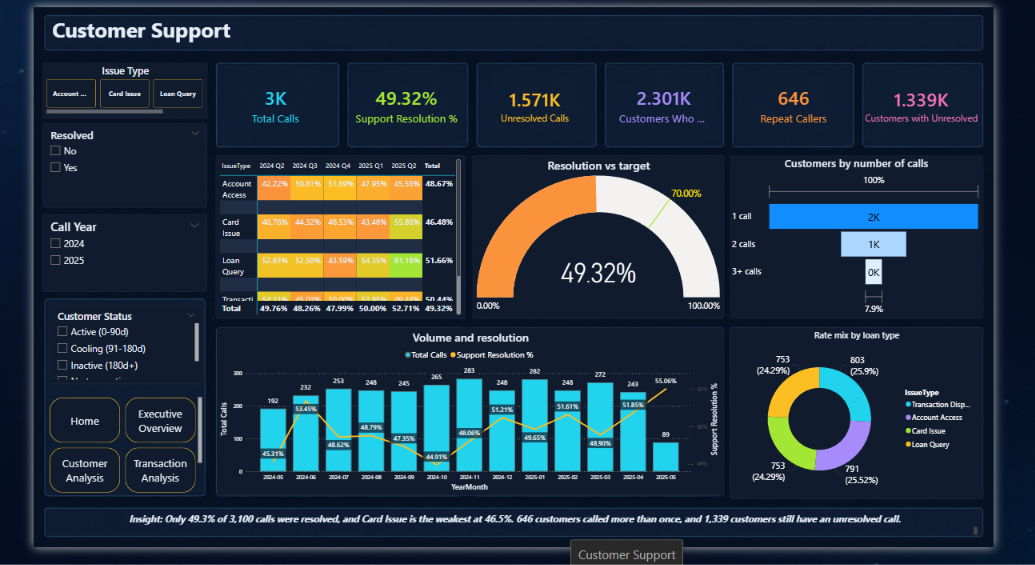

Layout of this report page (visuals, bound fields, positions):
{"tool":"powerbi","page":{"name":"Customer Support","canvas":[1920,1080],"ordinal":5},"visuals":[{"type":"cardVisual","fields":{"Data":["dim_customers.Total Calls"]},"box":[336.8,108.6,296.3,174.8],"z":0},{"type":"cardVisual","fields":{"Data":["dim_customers.Unresolved Calls"]},"box":[862.2,108.5,281.7,175.1],"z":1000},{"type":"cardVisual","fields":{"Data":["dim_customers.Repeat Callers"]},"box":[1395.1,108.6,248.5,174.8],"z":2000},{"type":"cardVisual","fields":{"Data":["dim_customers.Customers Who Called"]},"box":[1143,108.6,237.4,174.8],"z":3000},{"type":"cardVisual","fields":{"Data":["_Measures.Support Resolution %"]},"box":[589,108.6,316.6,174.8],"z":4000},{"type":"cardVisual","fields":{"Data":["dim_customers.Customers with Unresolved"]},"box":[1629.2,108.5,291.2,175.1],"z":5000},{"type":"pivotTable","title":"Loan portfolio by type","fields":{"Rows":["fact_support_calls.IssueType"],"Columns":["dim_date.Year Quarter"],"Values":["_Measures.Support Resolution %"]},"box":[364.3,295.7,498.6,327.1],"z":6000},{"type":"gauge","title":"Resolution vs target","fields":{"Y":["_Measures.Support Resolution %"],"TargetValue":["_Measures.Resolution Target"]},"box":[877.1,295.7,502.9,327.1],"z":7000},{"type":"funnel","title":"Customers by number of calls","fields":{"Category":["dim_customers.Call Band"],"Y":["_Measures.Total Customers"]},"box":[1392.9,295.7,507.1,327.1],"z":8000},{"type":"donutChart","title":"Rate mix by loan type","fields":{"Y":["dim_customers.Total Calls"],"Category":["fact_support_calls.IssueType"]},"box":[1392.9,640,507.1,344.3],"z":9000},{"type":"advancedSlicerVisual","title":"Issue Type","fields":{"Values":["fact_support_calls.IssueType"]},"box":[18,109,329,113],"z":10000},{"type":"slicer","fields":{"Values":["fact_support_calls.Resolved"]},"box":[18,232,329,169],"z":11000},{"type":"slicer","fields":{"Values":["fact_support_calls.Call Year"]},"box":[18,414.2,329,154.8],"z":12000},{"type":"slicer","fields":{"Values":["dim_customers.Customer Status"]},"box":[31,595,306,157],"z":13000},{"type":"textbox","title":"Customer Support","box":[31.3,16.6,1746.6,92],"z":14000},{"type":"pageNavigator","box":[31.3,780.4,305.5,196.9],"z":15000},{"type":"lineClusteredColumnComboChart","title":"Volume and resolution","fields":{"Category":["dim_date.YearMonth"],"Y":["dim_customers.Total Calls"],"Y2":["_Measures.Support Resolution %"]},"box":[365,640,1015,337.5],"z":16000},{"type":"textbox","title":"Insight: Only 49.3% of 3,100 calls were resolved, and Card Issue is the weakest at 46.5%. 646 customers called more than once, and 1,339 customers still have an unresolved call.","box":[31.3,1010.4,1860.7,49.7],"z":17000}]}

Visuals, with their boxes on the page's 1920x1080 design canvas (x1, y1, x2, y2). These are canvas units, not pixel positions in the 1035x565 screenshot, which may show the page scaled, cropped or inside an application window:
cardVisual - dim_customers.Total Calls: 337/109/633/283
cardVisual - dim_customers.Unresolved Calls: 862/108/1144/284
cardVisual - dim_customers.Repeat Callers: 1395/109/1644/283
cardVisual - dim_customers.Customers Who Called: 1143/109/1380/283
cardVisual - _Measures.Support Resolution %: 589/109/906/283
cardVisual - dim_customers.Customers with Unresolved: 1629/108/1920/284
"Loan portfolio by type" pivotTable: 364/296/863/623
"Resolution vs target" gauge: 877/296/1380/623
"Customers by number of calls" funnel: 1393/296/1900/623
"Rate mix by loan type" donutChart: 1393/640/1900/984
"Issue Type" advancedSlicerVisual: 18/109/347/222
slicer - fact_support_calls.Resolved: 18/232/347/401
slicer - fact_support_calls.Call Year: 18/414/347/569
slicer - dim_customers.Customer Status: 31/595/337/752
"Customer Support" textbox: 31/17/1778/109
pageNavigator: 31/780/337/977
"Volume and resolution" lineClusteredColumnComboChart: 365/640/1380/978
"Insight: Only 49.3% of 3,100 calls were resolved, and Card Issue is the weakest at 46.5%. 646 customers called more than once, and 1,339 customers still have an unresolved call." textbox: 31/1010/1892/1060
